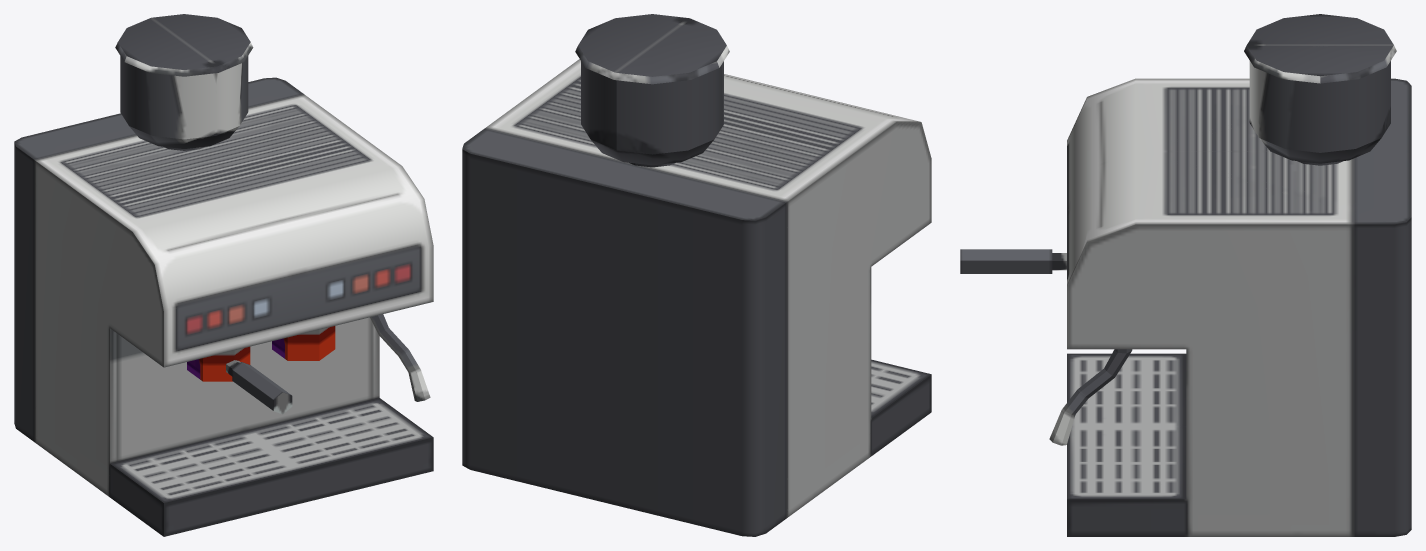
Rendered from CoffeMakerMesh.fbx.
The picture shows the model from 3 angles, left to right: view 1: azimuth 30°, elevation 25°; view 2: azimuth 150°, elevation 25°; view 3: azimuth 270°, elevation 25°; orthographic projection. The views are drawn at different scales.
Visible parts, largest first — view 1: CoffeMaker, Coffee_holder; view 2: CoffeMaker, Coffee_holder; view 3: CoffeMaker, Coffee_holder.
Boxes of the visible parts, box(x1,y1,x2,y2) form: CoffeMaker: box(14, 77, 433, 536); Coffee_holder: box(115, 14, 253, 150); CoffeMaker: box(462, 59, 931, 536); Coffee_holder: box(575, 14, 729, 167); CoffeMaker: box(960, 78, 1411, 536); Coffee_holder: box(1244, 14, 1396, 165).
Bounding box in the file's own units: 1 × 1.34 × 1.31.
